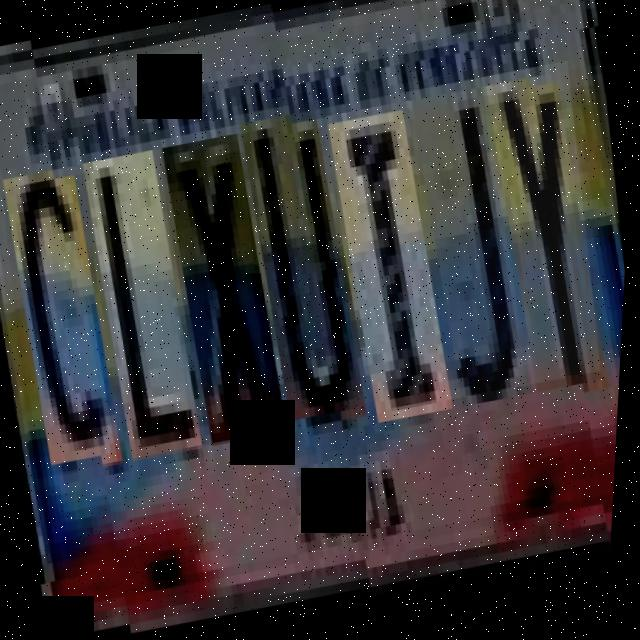C: (0, 173, 134, 482)
I: (314, 102, 462, 422)
J: (396, 78, 543, 406)
L: (70, 148, 214, 467)
U: (228, 108, 377, 428)
X: (149, 133, 299, 453)
Y: (470, 64, 618, 393)
